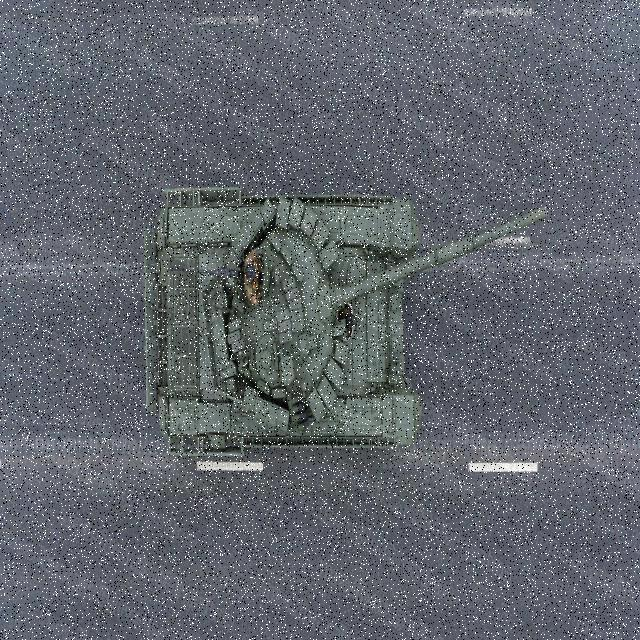MIL_MBT: (135, 163, 556, 461)
